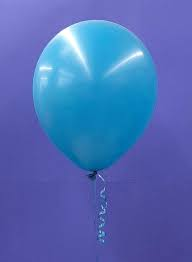Balloon: (32, 20, 160, 172)
